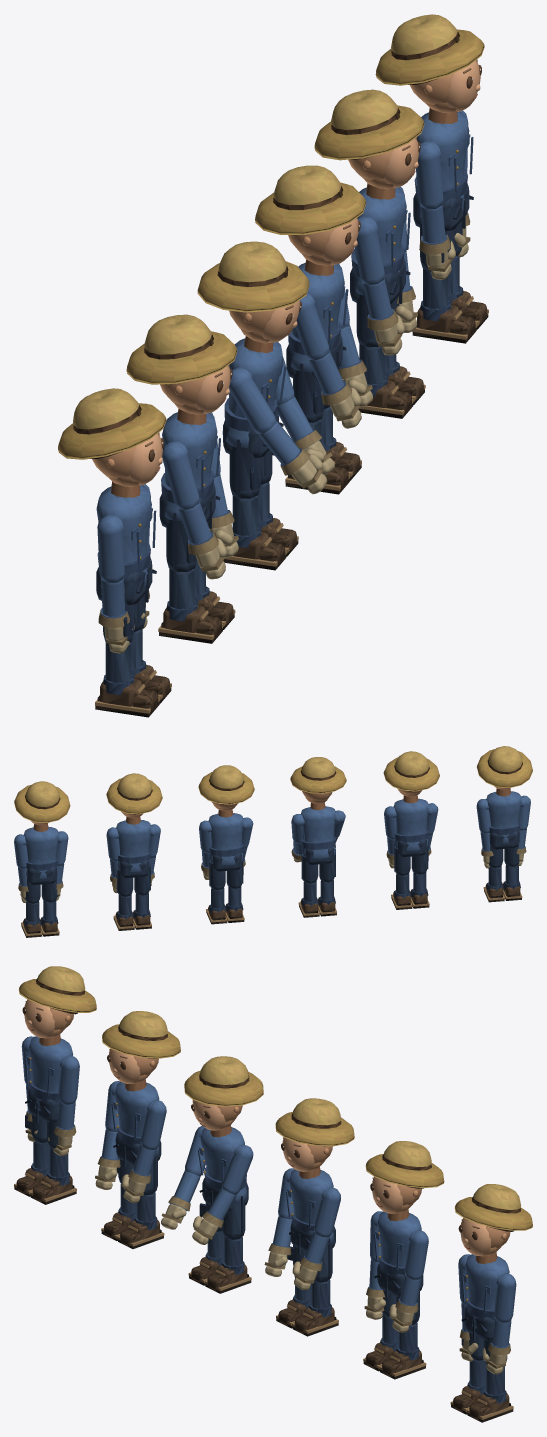
The model's file is ba-inspect-front-before.glb.
3 views of the same model, one above another, from view 1: azimuth 30°, elevation 25°; view 2: azimuth 150°, elevation 25°; view 3: azimuth 270°, elevation 25° (orthographic). The views are drawn at different scales.
Parts seen in each view (by area): view 1: strawHat (×6), denimJacketTorso (×6), rightShin (×6), head (×6), rightUpperArm (×6), leftShin (×6), rightHandMesh (×6), rightLowerArm (×6), rightThigh (×3), trouserHips (×3), leftLowerArm; view 2: strawHat (×6), denimJacketTorso (×6), leftShin (×6), rightShin (×6), leftUpperArm (×6), trouserHips (×6), leftThigh (×6), rightThigh (×6), rightUpperArm (×5), head; view 3: strawHat (×6), denimJacketTorso (×6), leftShin (×6), head (×6), leftUpperArm (×6), rightShin (×6), leftHandMesh (×5), trouserHips (×4), rightHandMesh (×4), leftThigh, rightUpperArm, rightLowerArm.
Part boxes in pixels (left/top/right/bottom): strawHat (×6): left=58, top=14, right=484, bottom=459; denimJacketTorso (×6): left=96, top=108, right=473, bottom=594; rightShin (×6): left=95, top=268, right=477, bottom=717; head (×6): left=90, top=59, right=481, bottom=486; rightUpperArm (×6): left=97, top=141, right=443, bottom=583; leftShin (×6): left=130, top=255, right=488, bottom=703; rightHandMesh (×6): left=98, top=235, right=455, bottom=653; rightLowerArm (×6): left=100, top=204, right=447, bottom=623; rightThigh (×3): left=166, top=363, right=323, bottom=572; trouserHips (×3): left=96, top=183, right=473, bottom=605; leftLowerArm: left=277, top=396, right=318, bottom=449; strawHat (×6): left=14, top=746, right=532, bottom=822; denimJacketTorso (×6): left=24, top=788, right=521, bottom=879; leftShin (×6): left=21, top=866, right=504, bottom=937; rightShin (×6): left=40, top=865, right=522, bottom=936; leftUpperArm (×6): left=14, top=799, right=491, bottom=868; trouserHips (×6): left=27, top=831, right=519, bottom=884; leftThigh (×6): left=24, top=843, right=503, bottom=903; rightThigh (×6): left=41, top=841, right=519, bottom=902; rightUpperArm (×5): left=55, top=795, right=530, bottom=865; head: left=302, top=791, right=332, bottom=803; strawHat (×6): left=18, top=966, right=532, bottom=1230; denimJacketTorso (×6): left=25, top=1034, right=509, bottom=1328; leftShin (×6): left=30, top=1147, right=513, bottom=1422; head (×6): left=22, top=999, right=513, bottom=1256; leftUpperArm (×6): left=58, top=1055, right=516, bottom=1322; rightShin (×6): left=14, top=1141, right=486, bottom=1414; leftHandMesh (×5): left=121, top=1169, right=510, bottom=1374; trouserHips (×4): left=25, top=1089, right=494, bottom=1340; rightHandMesh (×4): left=95, top=1157, right=385, bottom=1319; leftThigh: left=221, top=1196, right=245, bottom=1239; rightUpperArm: left=184, top=1126, right=205, bottom=1176; rightLowerArm: left=169, top=1171, right=200, bottom=1210.
Size of what is drawn, in the model's own units: 5.97 by 2.43 by 5.19.
